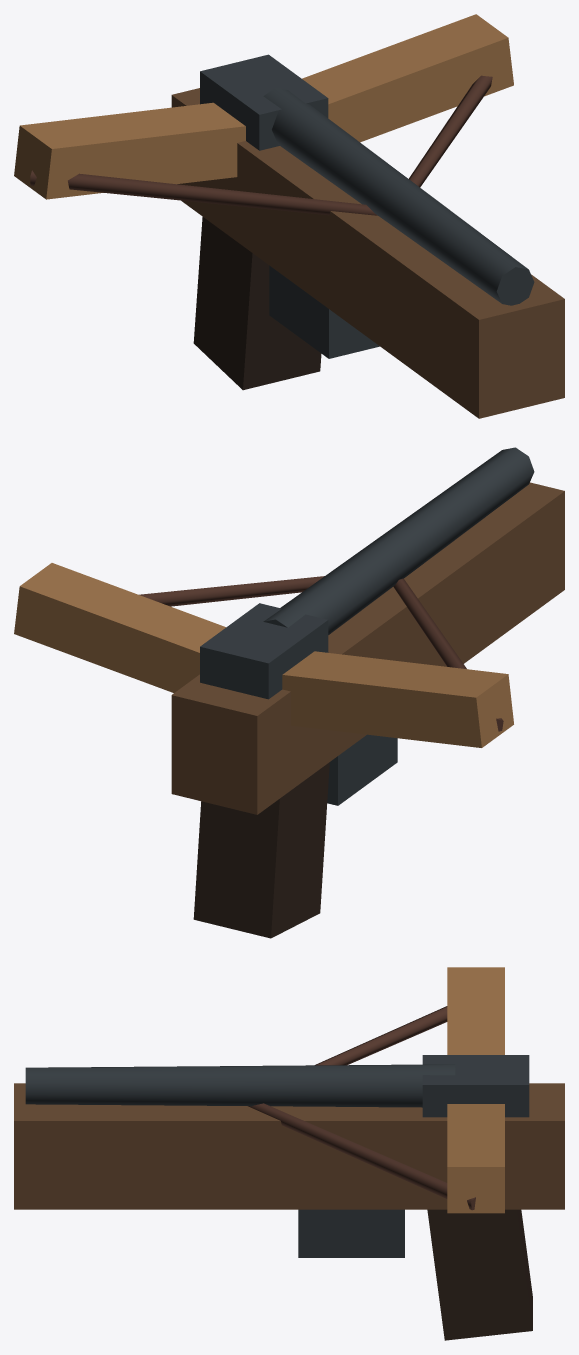
File: heavy-crossbow.glb
The picture shows the model from 3 angles, top to bottom: view 1: azimuth 30°, elevation 25°; view 2: azimuth 150°, elevation 25°; view 3: azimuth 270°, elevation 25°; orthographic projection. The views are drawn at different scales.
Visible parts, largest first — view 1: heavy-crossbow-stock, heavy-crossbow-prod-left, heavy-crossbow-barrel, heavy-crossbow-prod-right, heavy-crossbow-grip, heavy-crossbow-prod-center, heavy-crossbow-string, heavy-crossbow-trigger-guard, heavy-crossbow-string-return; view 2: heavy-crossbow-stock, heavy-crossbow-prod-left, heavy-crossbow-grip, heavy-crossbow-prod-right, heavy-crossbow-barrel, heavy-crossbow-prod-center, heavy-crossbow-trigger-guard, heavy-crossbow-string-return, heavy-crossbow-string; view 3: heavy-crossbow-stock, heavy-crossbow-barrel, heavy-crossbow-grip, heavy-crossbow-prod-right, heavy-crossbow-prod-center, heavy-crossbow-trigger-guard, heavy-crossbow-prod-left, heavy-crossbow-string-return, heavy-crossbow-string.
Boxes of the visible parts, x1=… form: heavy-crossbow-stock: x1=171, y1=88, x2=564, y2=418; heavy-crossbow-prod-left: x1=14, y1=102, x2=245, y2=199; heavy-crossbow-barrel: x1=263, y1=88, x2=534, y2=305; heavy-crossbow-prod-right: x1=302, y1=14, x2=513, y2=142; heavy-crossbow-grip: x1=193, y1=217, x2=321, y2=390; heavy-crossbow-prod-center: x1=200, y1=54, x2=328, y2=150; heavy-crossbow-string: x1=30, y1=170, x2=377, y2=215; heavy-crossbow-trigger-guard: x1=269, y1=265, x2=379, y2=358; heavy-crossbow-string-return: x1=409, y1=75, x2=492, y2=187; heavy-crossbow-stock: x1=171, y1=482, x2=564, y2=814; heavy-crossbow-prod-left: x1=282, y1=651, x2=513, y2=747; heavy-crossbow-grip: x1=193, y1=762, x2=329, y2=938; heavy-crossbow-prod-right: x1=14, y1=563, x2=225, y2=692; heavy-crossbow-barrel: x1=263, y1=447, x2=534, y2=634; heavy-crossbow-prod-center: x1=200, y1=603, x2=328, y2=699; heavy-crossbow-trigger-guard: x1=327, y1=734, x2=397, y2=805; heavy-crossbow-string-return: x1=139, y1=576, x2=324, y2=606; heavy-crossbow-string: x1=393, y1=578, x2=503, y2=731; heavy-crossbow-stock: x1=14, y1=1083, x2=564, y2=1209; heavy-crossbow-barrel: x1=25, y1=1064, x2=455, y2=1107; heavy-crossbow-grip: x1=427, y1=1209, x2=532, y2=1340; heavy-crossbow-prod-right: x1=447, y1=1104, x2=504, y2=1213; heavy-crossbow-prod-center: x1=422, y1=1055, x2=529, y2=1117; heavy-crossbow-trigger-guard: x1=298, y1=1209, x2=404, y2=1257; heavy-crossbow-prod-left: x1=447, y1=967, x2=504, y2=1054; heavy-crossbow-string-return: x1=248, y1=1103, x2=475, y2=1210; heavy-crossbow-string: x1=315, y1=1006, x2=447, y2=1065.
Bounding box in the file's own units: 0.551 × 0.3211 × 0.62.
